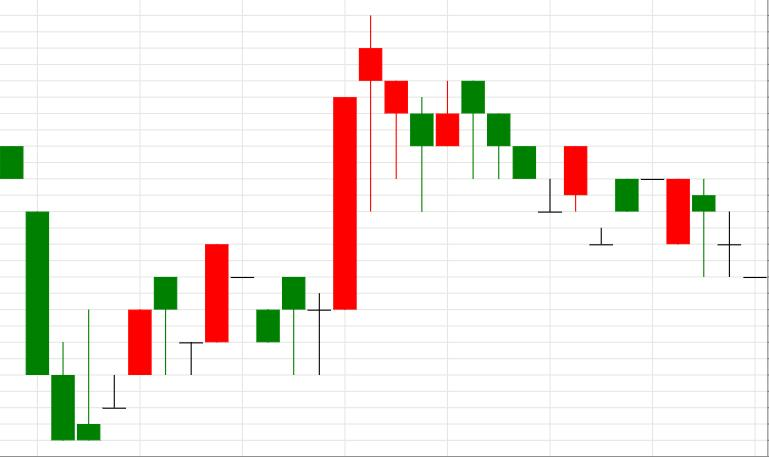hanging_man_fall: (78, 277, 177, 440)
morning_star_rise: (461, 81, 588, 213)
